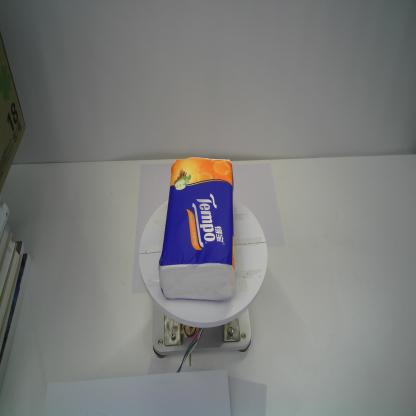Tissue: (159, 157, 236, 301)
